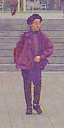person: (15, 14, 50, 118)
